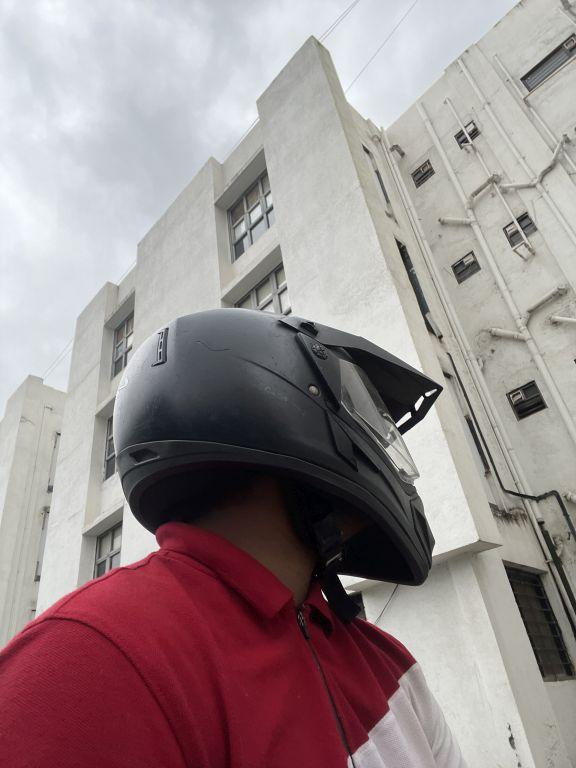helmet: (102, 289, 465, 597)
